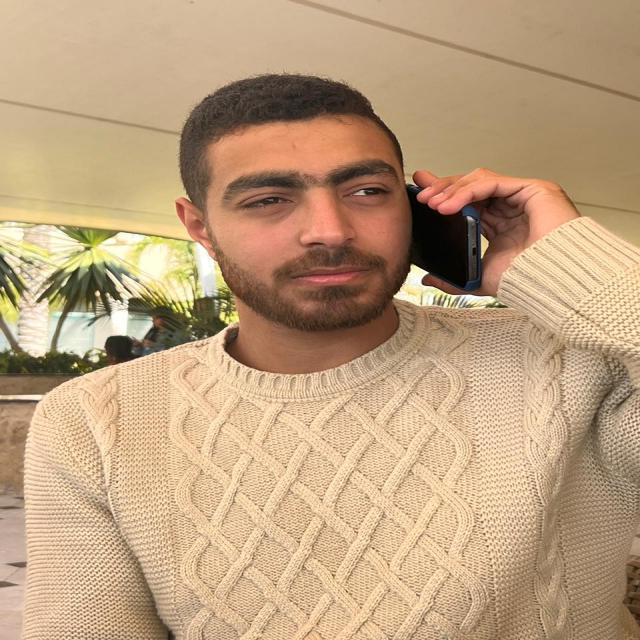phone: (408, 180, 481, 290)
